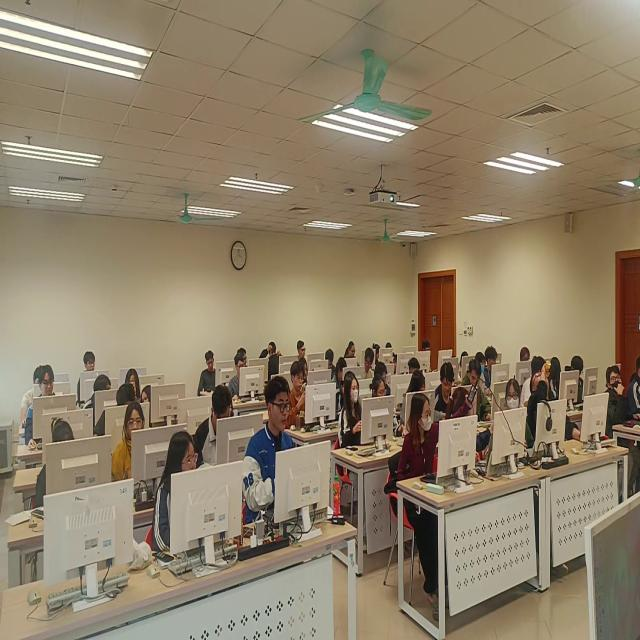raise_head: (243, 369, 294, 524), (150, 426, 204, 552), (527, 367, 575, 448), (113, 398, 146, 486), (604, 365, 628, 432), (77, 349, 97, 408), (265, 341, 284, 375), (296, 339, 306, 361)
using_computer: (34, 417, 79, 512), (24, 360, 59, 451), (197, 388, 235, 468), (371, 375, 400, 437), (20, 363, 45, 427), (341, 373, 362, 446), (84, 371, 115, 419), (465, 359, 489, 420), (523, 354, 545, 408), (436, 361, 456, 420), (226, 354, 247, 407), (571, 357, 588, 404), (486, 345, 501, 391), (630, 356, 640, 425), (477, 351, 491, 397), (549, 357, 562, 404), (424, 339, 437, 376), (362, 346, 374, 381), (333, 356, 349, 382), (343, 338, 359, 361), (458, 349, 470, 379), (326, 344, 336, 377), (374, 341, 382, 368), (520, 346, 532, 363), (384, 341, 394, 355)
using_phone: (289, 361, 311, 428), (197, 343, 220, 397), (125, 364, 142, 400)
